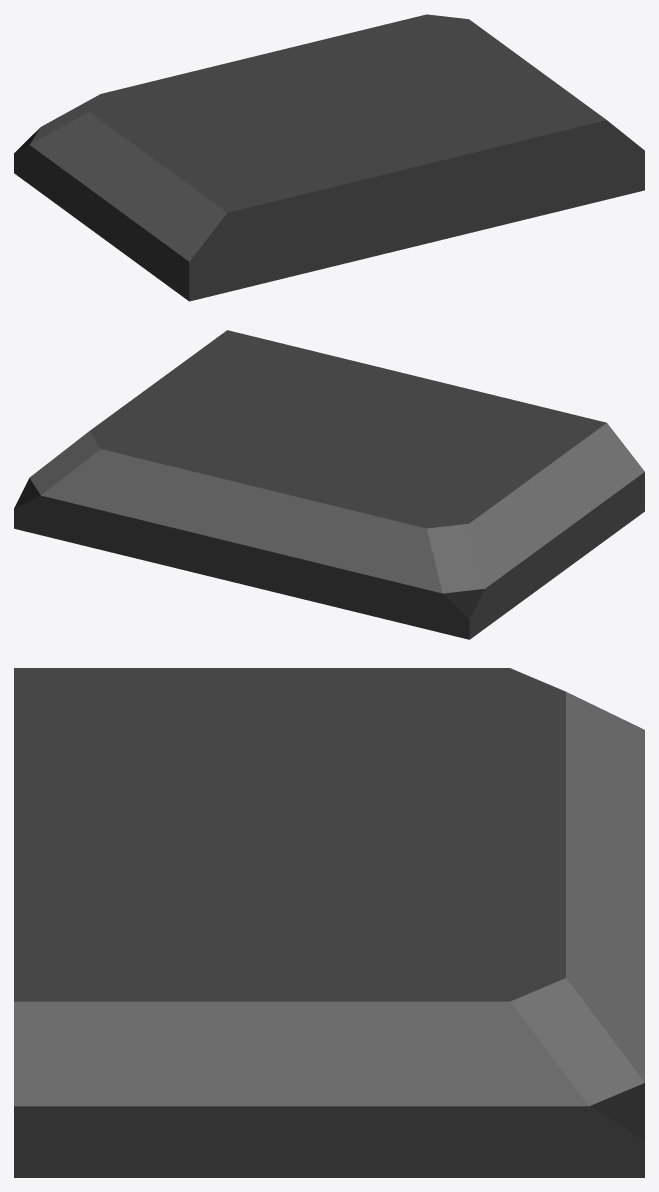
File: curb-island-end-rounded.glb
3 renders of one model, top to bottom at view 1: azimuth 30°, elevation 25°; view 2: azimuth 150°, elevation 25°; view 3: azimuth 270°, elevation 25°, orthographic. The views are drawn at different scales.
Visible parts, largest first — view 1: curb-island-end-rounded; view 2: curb-island-end-rounded; view 3: curb-island-end-rounded.
Part boxes in pixels (left/top/right/bottom): curb-island-end-rounded: left=14, top=14, right=644, bottom=301; curb-island-end-rounded: left=14, top=330, right=644, bottom=639; curb-island-end-rounded: left=14, top=668, right=644, bottom=1177.
Bounding box in the file's own units: 0.9144 × 0.1524 × 0.6096.
Materials: 1 (1 with a texture image).
